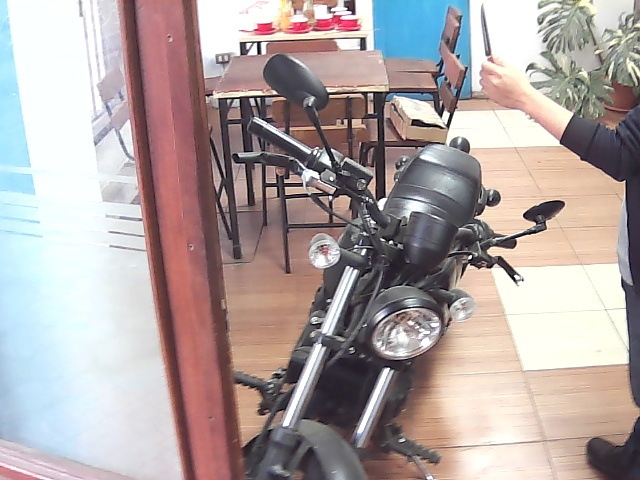cuchillo: (466, 0, 520, 107)
